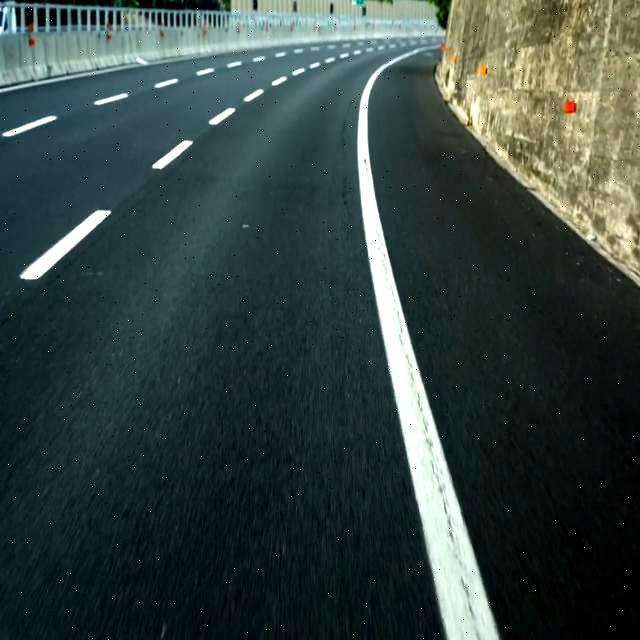road: (0, 49, 445, 639), (369, 51, 639, 639)
